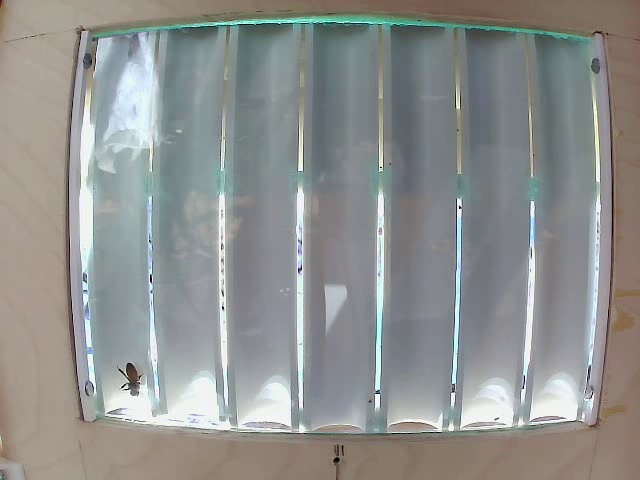bee: (112, 358, 158, 403)
